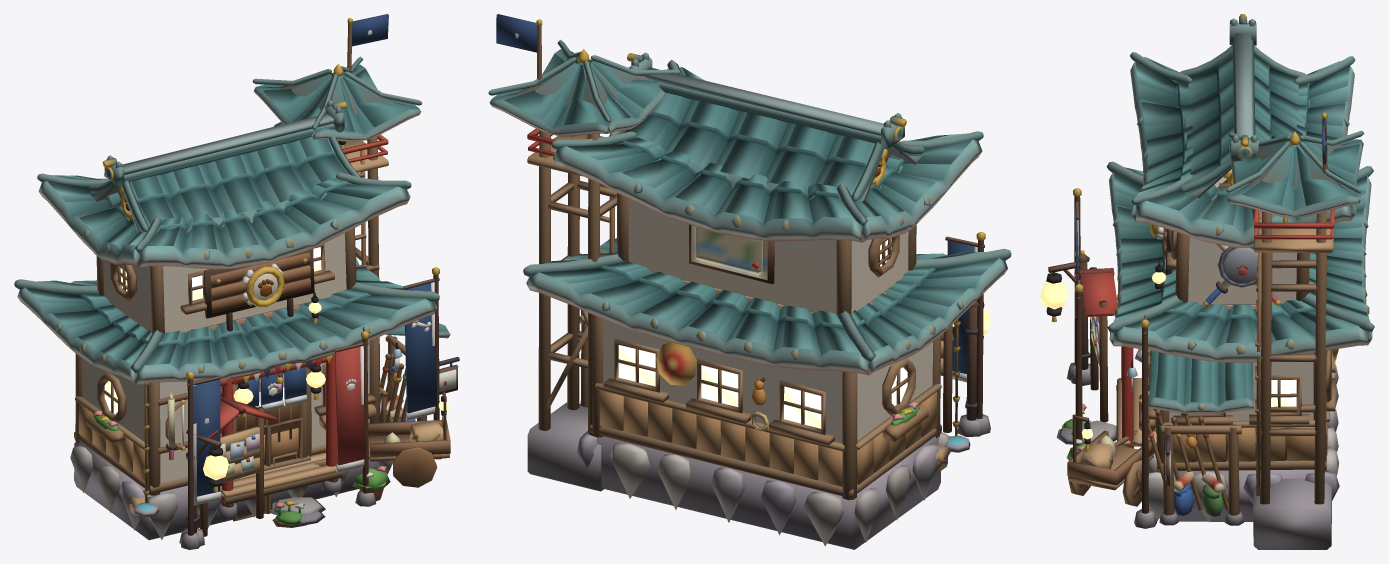
Rendered from guild-3.glb.
The picture shows the model from 3 angles, left to right: view 1: azimuth 30°, elevation 25°; view 2: azimuth 150°, elevation 25°; view 3: azimuth 270°, elevation 25°; orthographic projection. The views are drawn at different scales.
Visible parts, largest first — view 1: guild, window_glow; view 2: guild, window_glow; view 3: guild, window_glow.
Boxes of the visible parts, box(x1,y1,x2,y2) form: guild: box(14, 14, 459, 549); window_glow: box(104, 247, 448, 480); guild: box(488, 14, 1011, 549); window_glow: box(618, 238, 990, 428); guild: box(1046, 14, 1374, 549); window_glow: box(1040, 272, 1296, 439).
Bounding box in the file's own units: 4.88 × 5.28 × 3.69.
